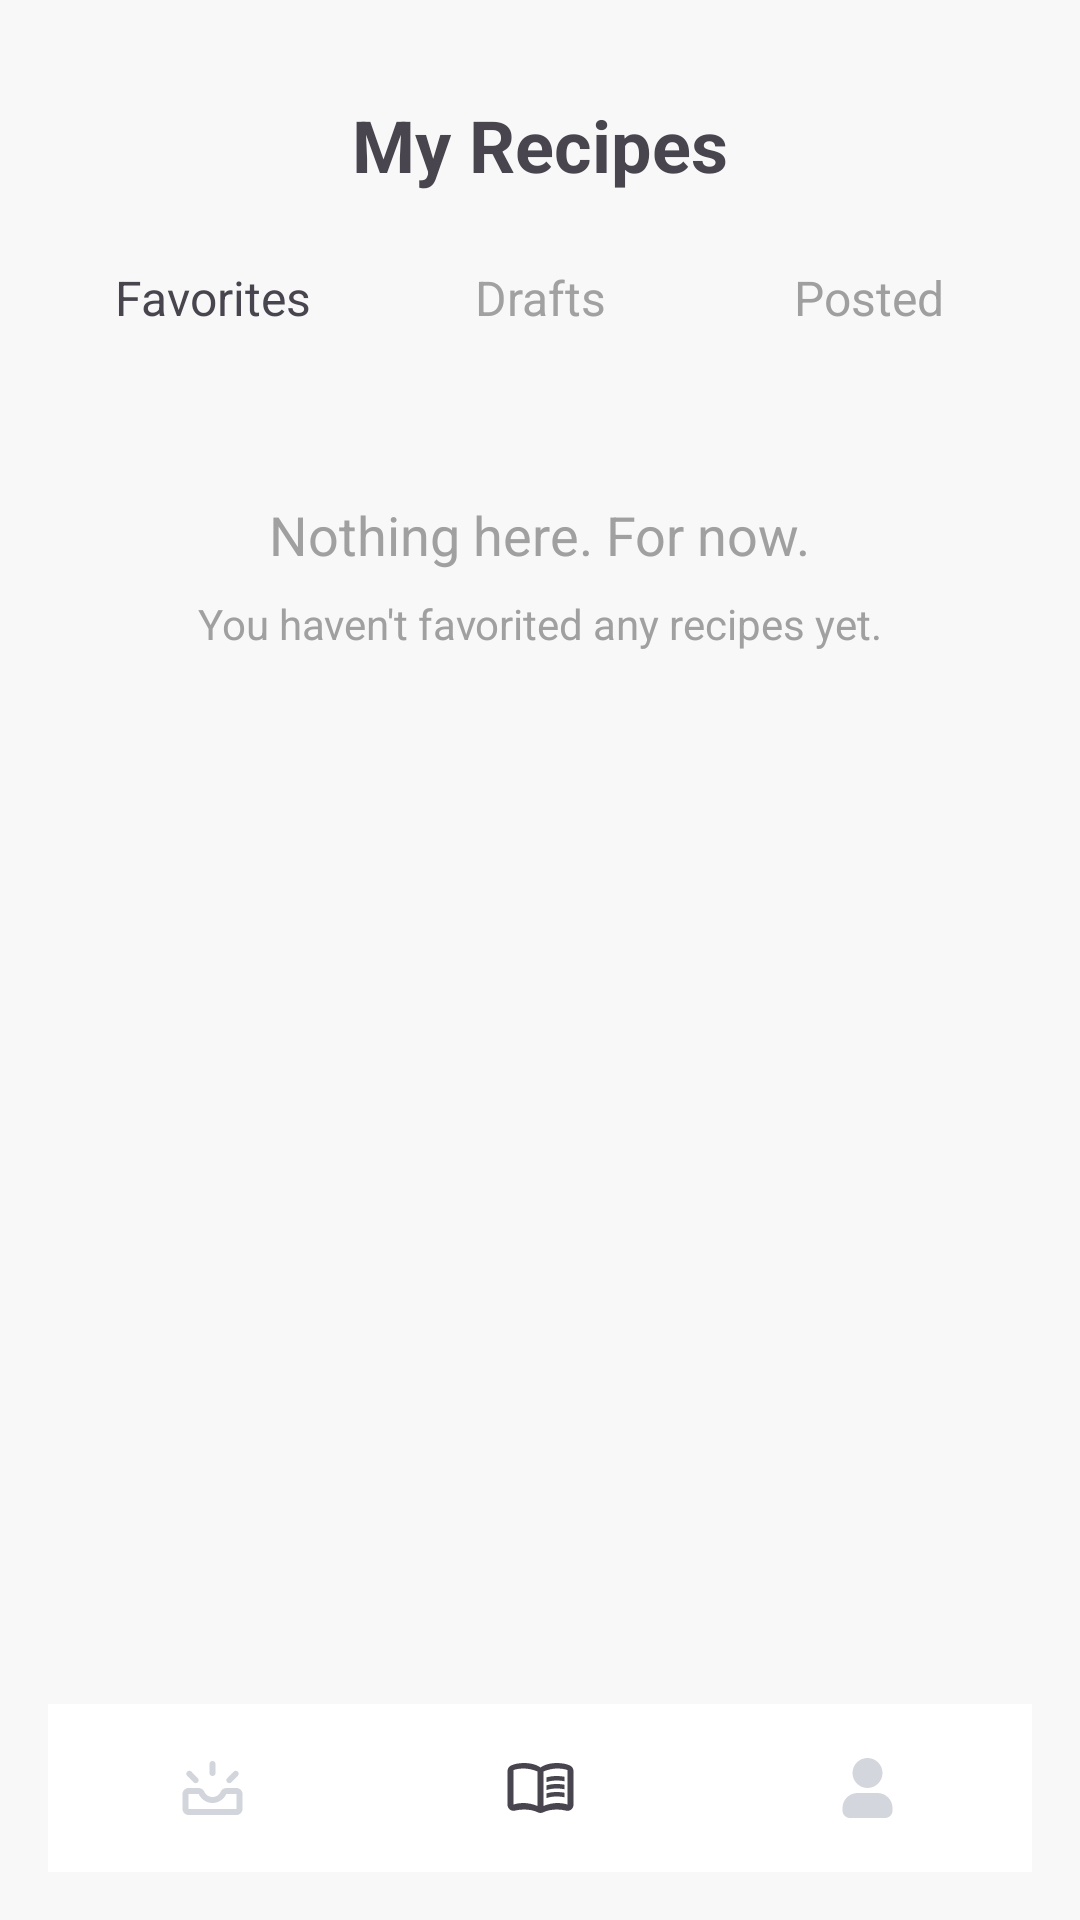

Where to tap for icons on this 1080*1920 app screen, as (x,y):
book border: (540,1788)
profile: (867,1788)
